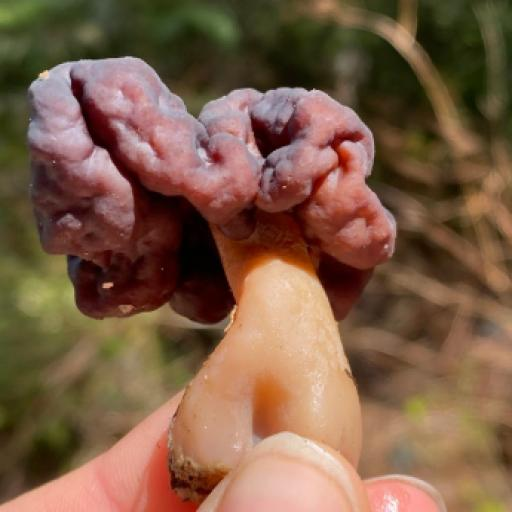False Morel: (38, 30, 404, 486)
